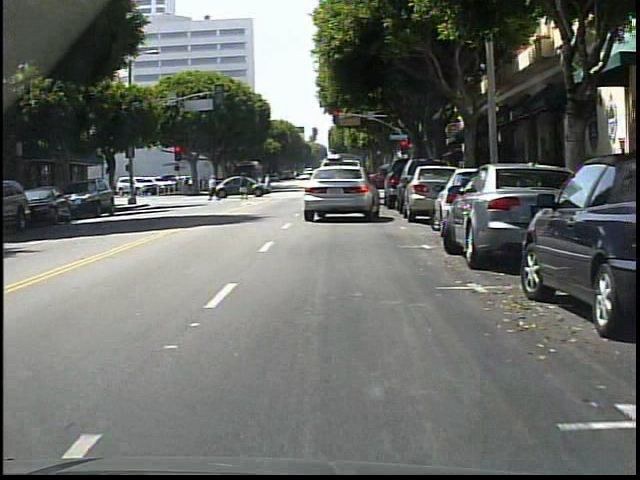person: (238, 172, 251, 201), (208, 175, 221, 199), (265, 173, 273, 192)
